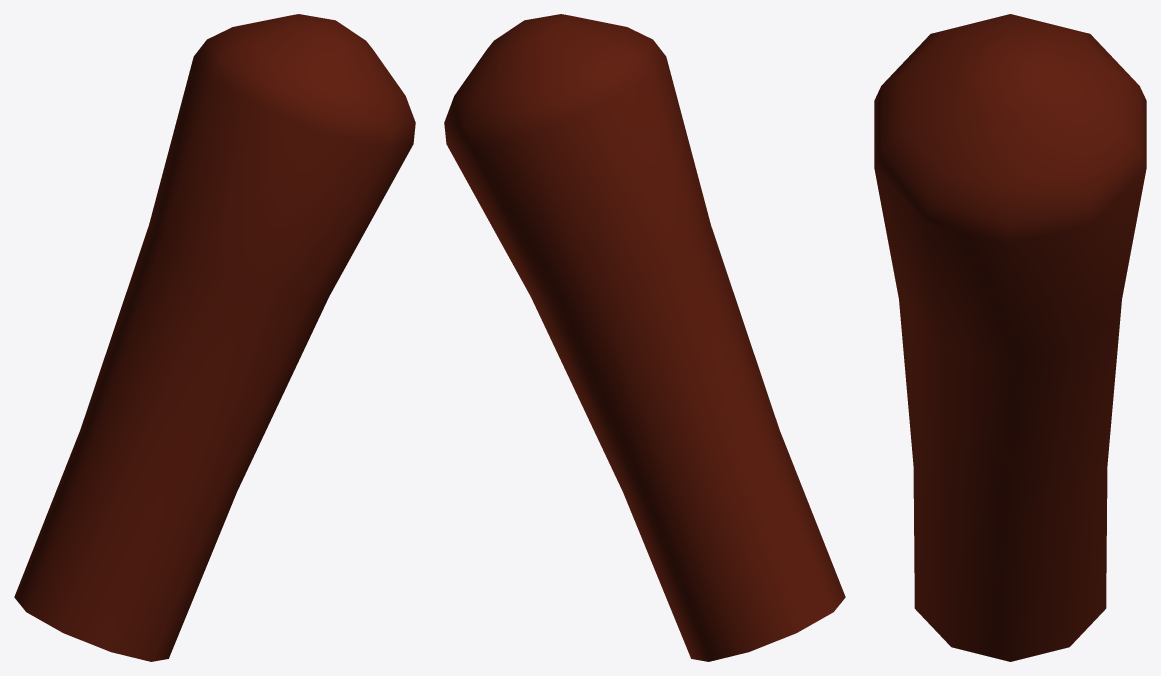
File: HiddenSwitch_3DModel.FBX
The picture shows the model from 3 angles, left to right: view 1: azimuth 30°, elevation 25°; view 2: azimuth 150°, elevation 25°; view 3: azimuth 270°, elevation 25°; orthographic projection. The views are drawn at different scales.
Parts seen in each view (by area): view 1: Switch; view 2: Switch; view 3: Switch.
Boxes of the visible parts, x1,y1,x2,y2 form: Switch: (14, 14, 415, 661); Switch: (444, 14, 845, 661); Switch: (874, 14, 1146, 661).
Bounding box in the file's own units: 7.53 × 11.3 × 3.93.
